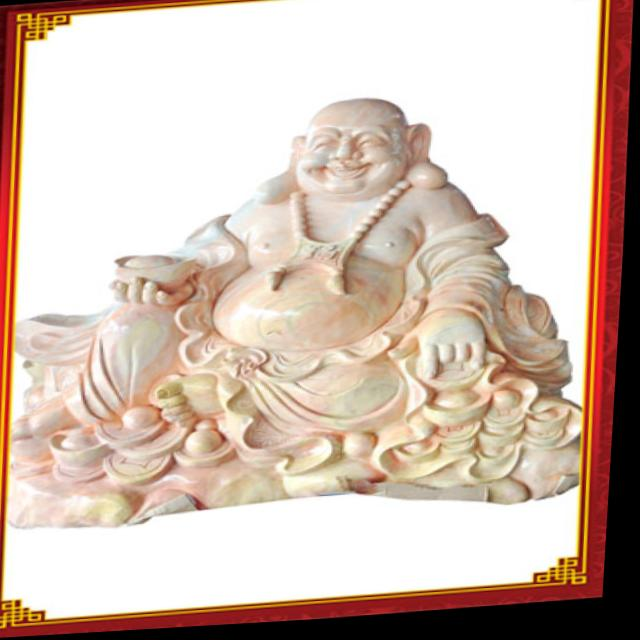Smiling Buddha: (135, 88, 523, 452)
